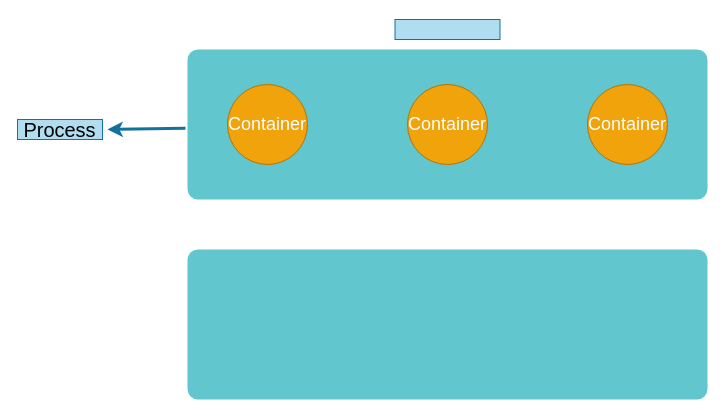
The diagram is 725 pixels wide and 417 high, and some of its shapes have lost their labels. Each missing label, with the centre of its shape:
"Containers" belongs at pixel 447 29.
"Operating System Kernel" belongs at pixel 447 324.
